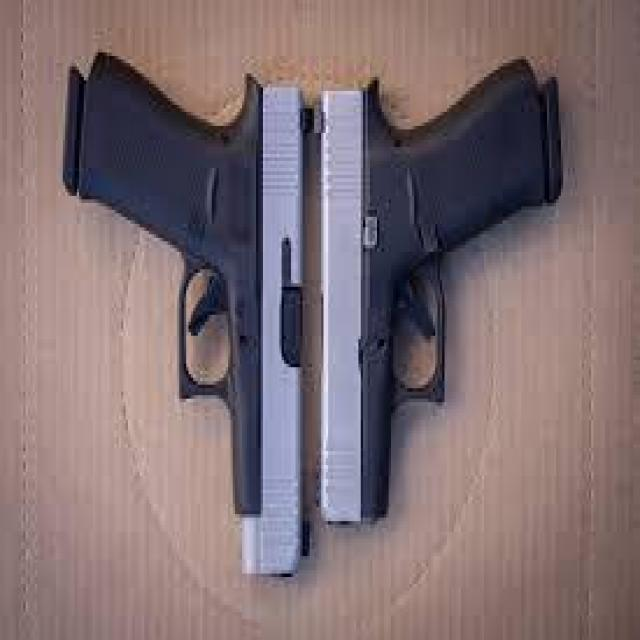pistol: (63, 66, 312, 577)
